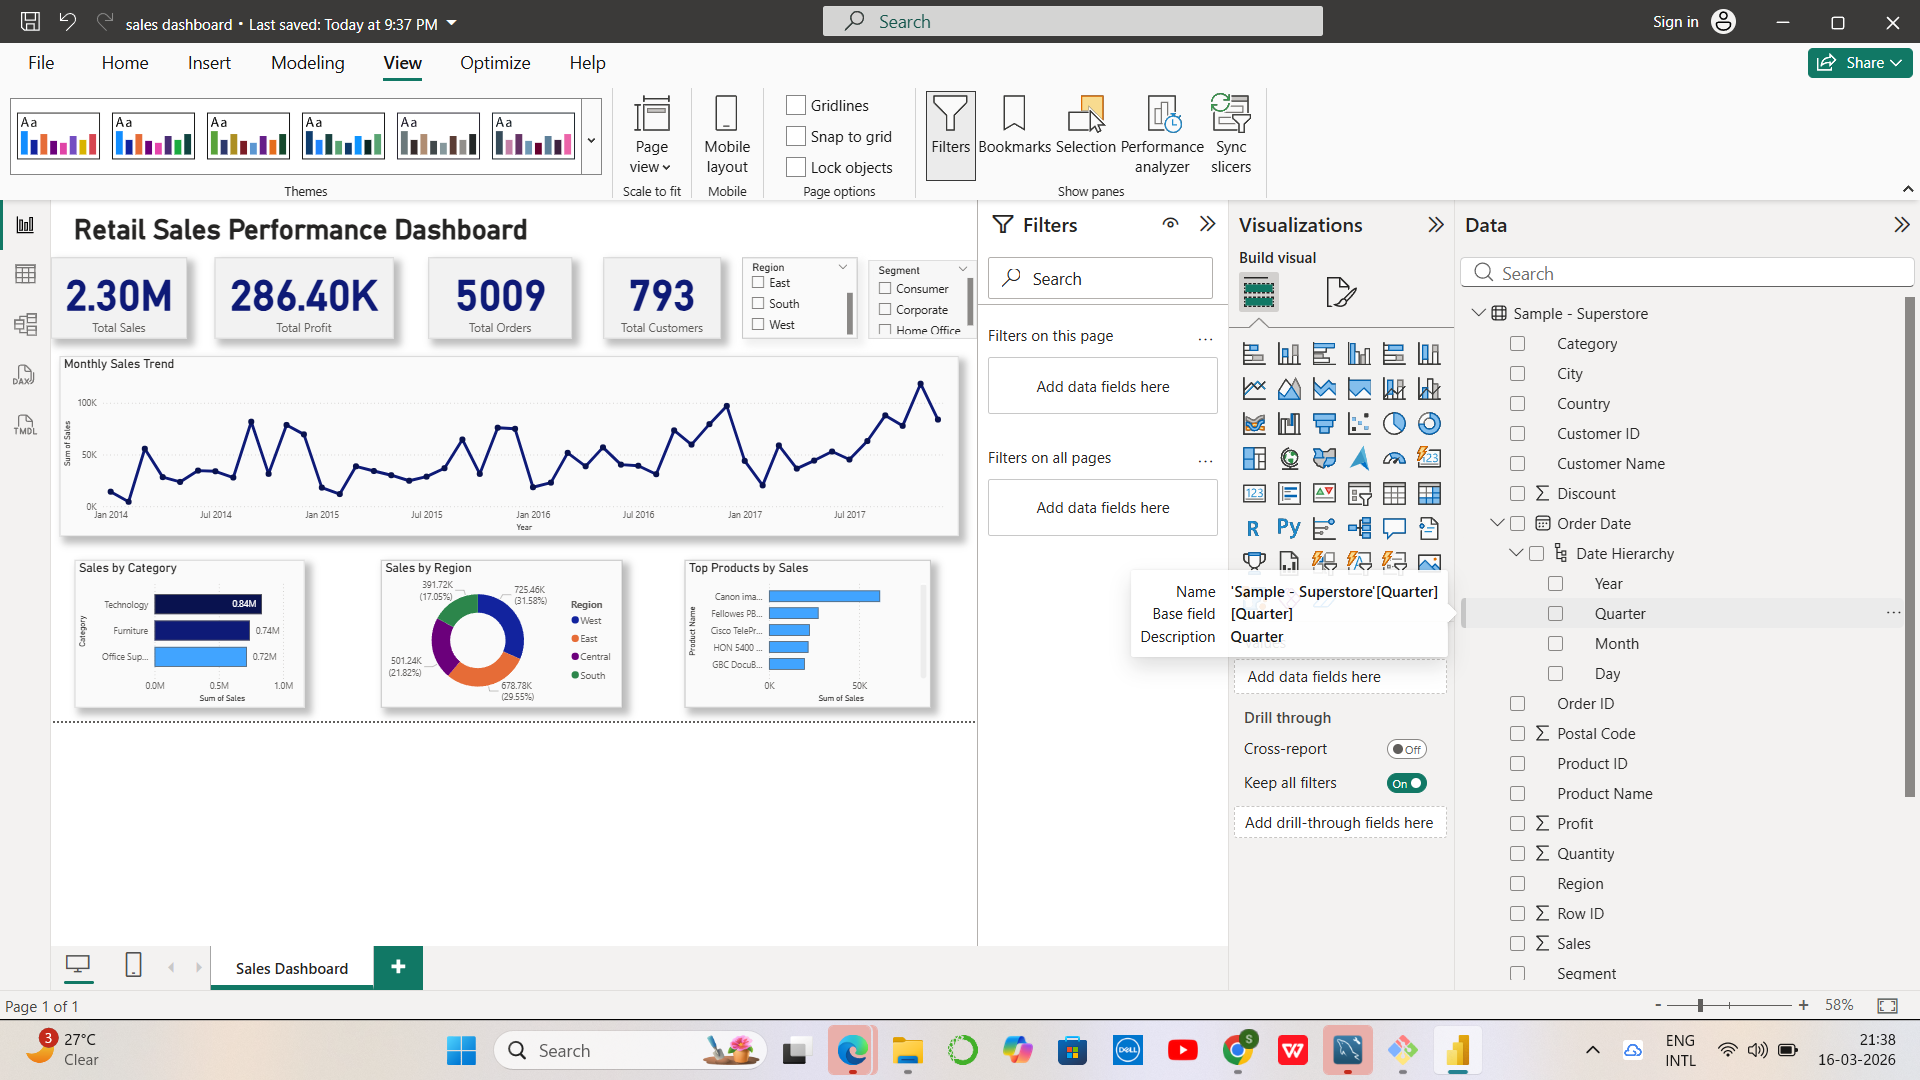

What the dashboard file says about the page in this screenshot:
{"tool":"powerbi","page":{"name":"Sales Dashboard","canvas":[1280,720],"ordinal":0},"visuals":[{"type":"card","fields":{"Values":["Sample - Superstore.Total Sales"]},"box":[0,79.5,188.3,112.3],"z":0},{"type":"card","fields":{"Values":["Sample - Superstore.Total Profit"]},"box":[226.4,79.5,247.1,112.3],"z":1000},{"type":"card","fields":{"Values":["Sample - Superstore.Total Orders"]},"box":[521.8,79.5,198.7,112.3],"z":2000},{"type":"card","fields":{"Values":["Sample - Superstore.Total Customers"]},"box":[763.7,79.5,162.4,112.3],"z":3000},{"type":"lineChart","title":"Monthly Sales Trend","fields":{"Category":["Sample - Superstore.Order Date.Variation.Date Hierarchy.Year","Sample - Superstore.Order Date.Variation.Date Hierarchy.Month"],"Y":["Sum(Sample - Superstore.Sales)"]},"box":[12.1,216,1242.3,248.8],"z":4000},{"type":"barChart","title":"Sales by Category","fields":{"Category":["Sample - Superstore.Category"],"Y":["Sum(Sample - Superstore.Sales)"]},"box":[32.8,497.6,317.9,203.9],"z":5000},{"type":"donutChart","title":"Sales by Region","fields":{"Category":["Sample - Superstore.Region"],"Y":["Sum(Sample - Superstore.Sales)"]},"box":[456.2,497.6,333.5,203.9],"z":6000},{"type":"barChart","title":"Top Products by Sales","fields":{"Category":["Sample - Superstore.Product Name"],"Y":["Sum(Sample - Superstore.Sales)"]},"box":[876,497.6,340.4,203.9],"z":7000},{"type":"textbox","title":"Retail Sales Performance Dashboard","box":[0,17.1,690.9,42.8],"z":8000},{"type":"slicer","fields":{"Values":["Sample - Superstore.Region"]},"box":[955.5,79.5,159,112.3],"z":9000},{"type":"slicer","fields":{"Values":["Sample - Superstore.Segment"]},"box":[1130,82.9,150.3,108.9],"z":10000}]}

Visuals, with their boxes on the page's 1280x720 design canvas (x1, y1, x2, y2). These are canvas units, not pixel positions in the 1920x1080 screenshot, which may show the page scaled, cropped or inside an application window:
card - Sample - Superstore.Total Sales: locate(0, 80, 188, 192)
card - Sample - Superstore.Total Profit: locate(226, 80, 474, 192)
card - Sample - Superstore.Total Orders: locate(522, 80, 720, 192)
card - Sample - Superstore.Total Customers: locate(764, 80, 926, 192)
"Monthly Sales Trend" lineChart: locate(12, 216, 1254, 465)
"Sales by Category" barChart: locate(33, 498, 351, 702)
"Sales by Region" donutChart: locate(456, 498, 790, 702)
"Top Products by Sales" barChart: locate(876, 498, 1216, 702)
"Retail Sales Performance Dashboard" textbox: locate(0, 17, 691, 60)
slicer - Sample - Superstore.Region: locate(956, 80, 1114, 192)
slicer - Sample - Superstore.Segment: locate(1130, 83, 1280, 192)
